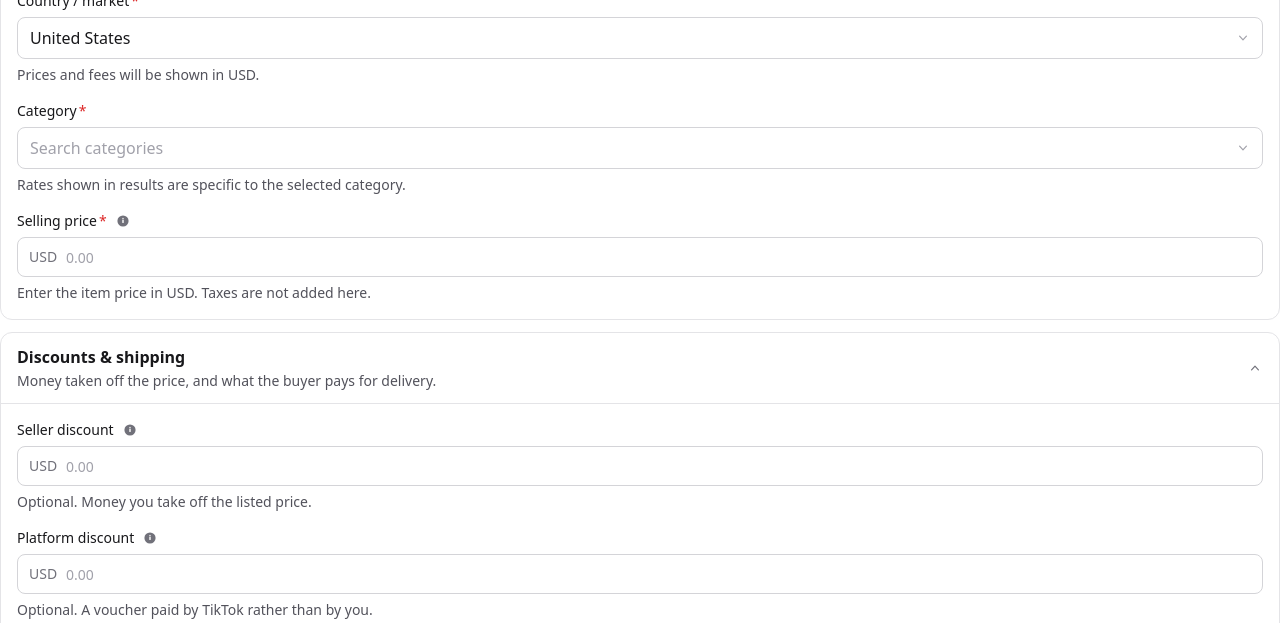
Test case: CalculatorForm results cycle › shows the error state and no panel when validation fails
The width and height of the screenshot is (1280, 623).
Focus the dropdown labelled "Category*" at coordinates (640, 148), box [17, 127, 1263, 169]
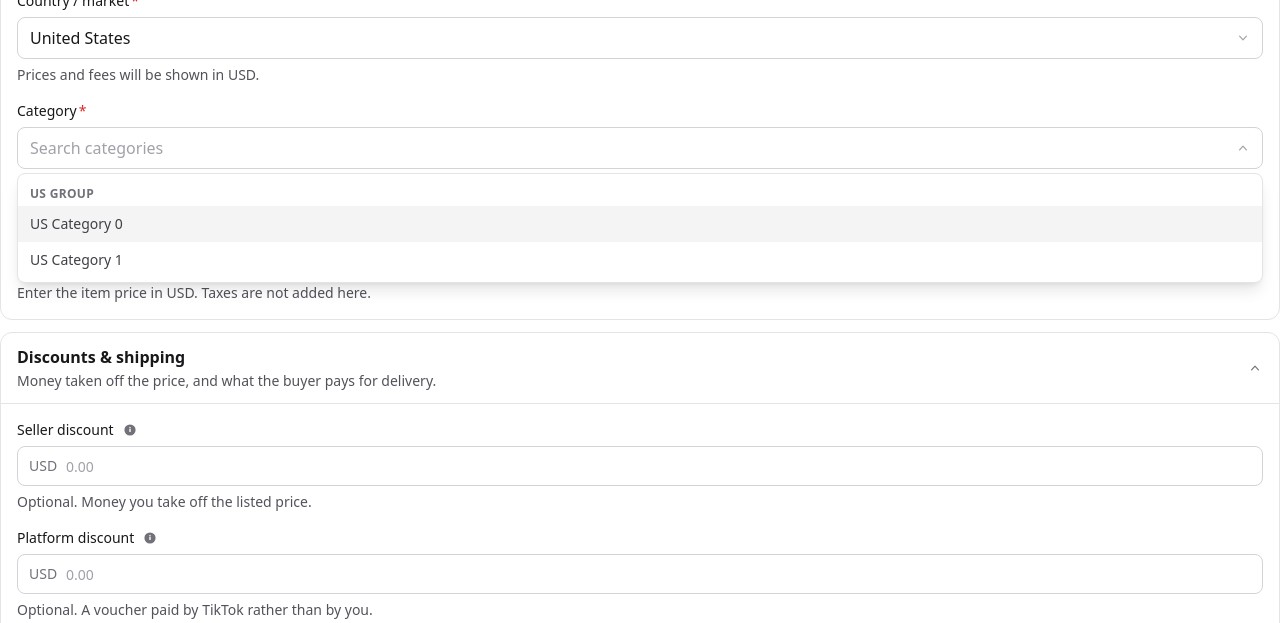
Press the mouse on the option "US Category 0" at coordinates (76, 224), box [18, 206, 1262, 242]
(page scrolled)
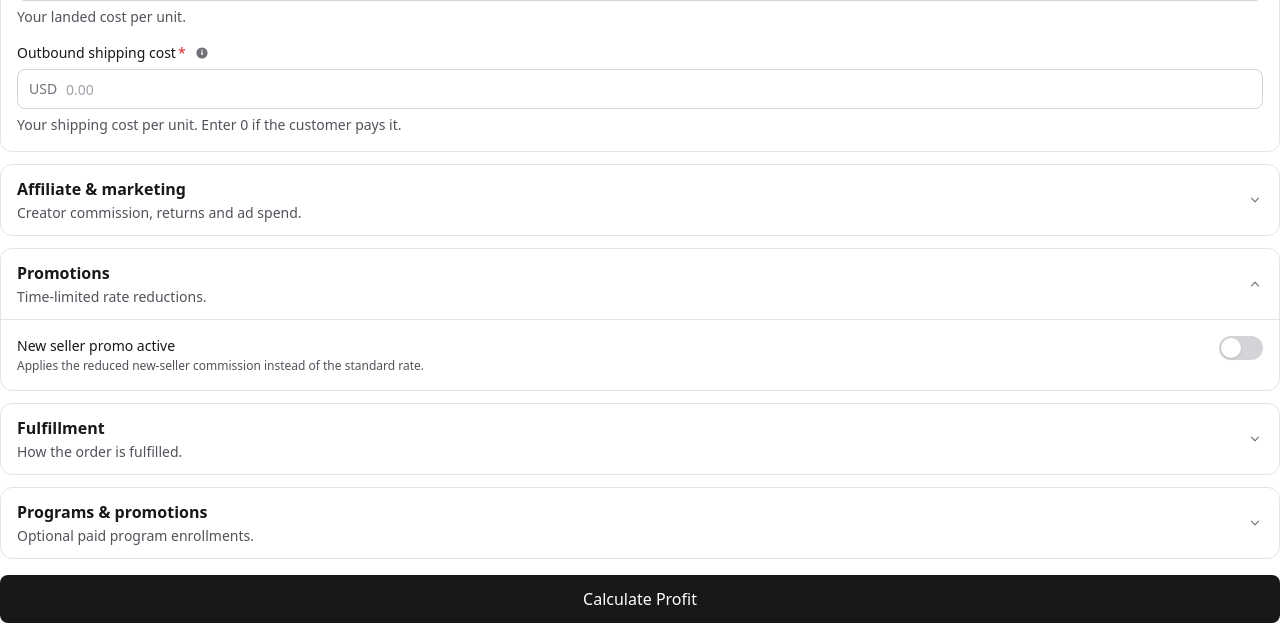
Click the button "Calculate Profit".
click(640, 599)  # box [0, 575, 1279, 622]
(page scrolled)
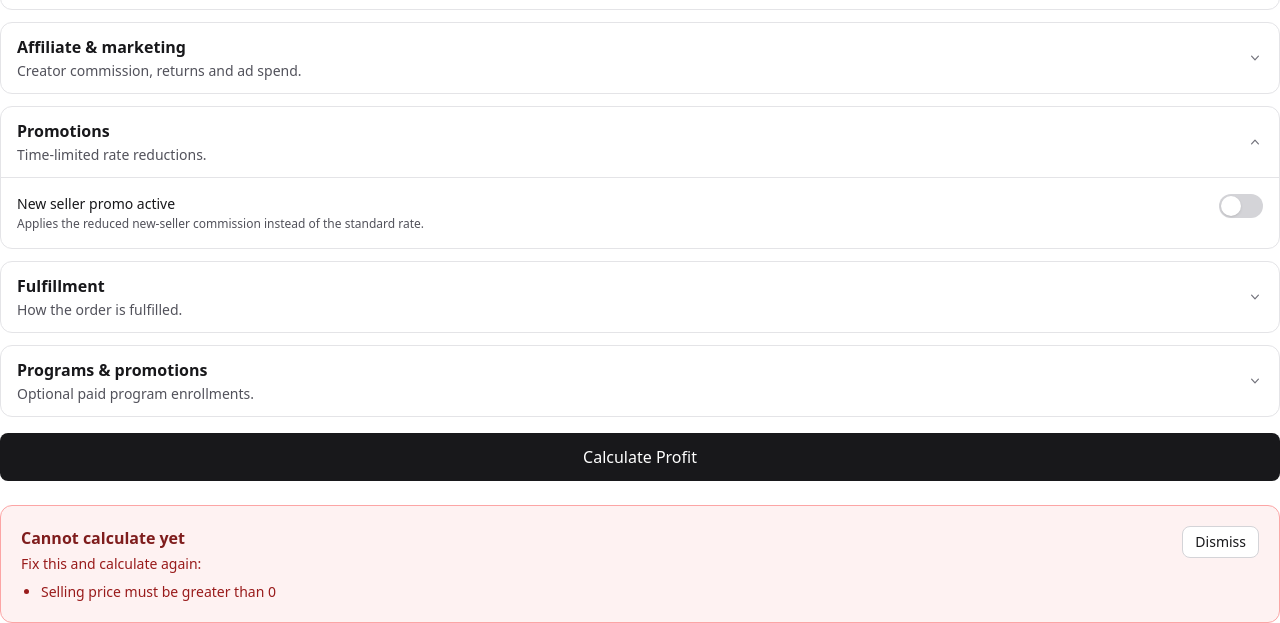
Now the message shows "Selling price must be greater than 0", box [41, 582, 276, 601]
